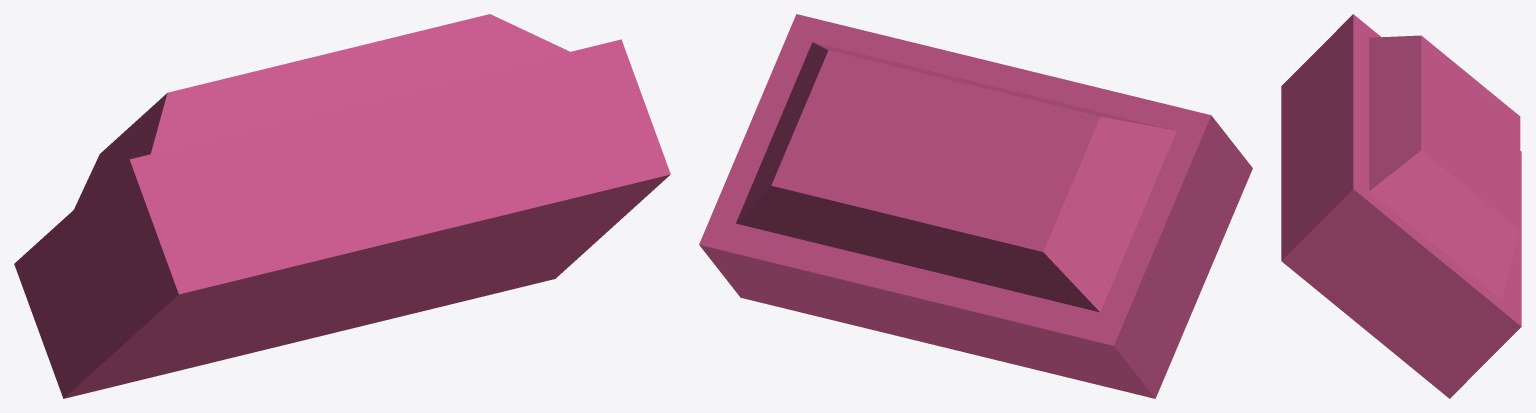
The model's file is Lights_03_Lod1.fbx.
3 renders of one model, left to right at view 1: azimuth 30°, elevation 25°; view 2: azimuth 150°, elevation 25°; view 3: azimuth 270°, elevation 25°, orthographic. The views are drawn at different scales.
Parts seen in each view (by area): view 1: Lights_03_Lod1; view 2: Lights_03_Lod1; view 3: Lights_03_Lod1.
Part boxes in pixels (x1=…): Lights_03_Lod1: x1=14, y1=14, x2=670, y2=398; Lights_03_Lod1: x1=699, y1=14, x2=1252, y2=398; Lights_03_Lod1: x1=1281, y1=14, x2=1521, y2=398.
Bounding box in the file's own units: 87.67 × 51.06 × 50.86.
